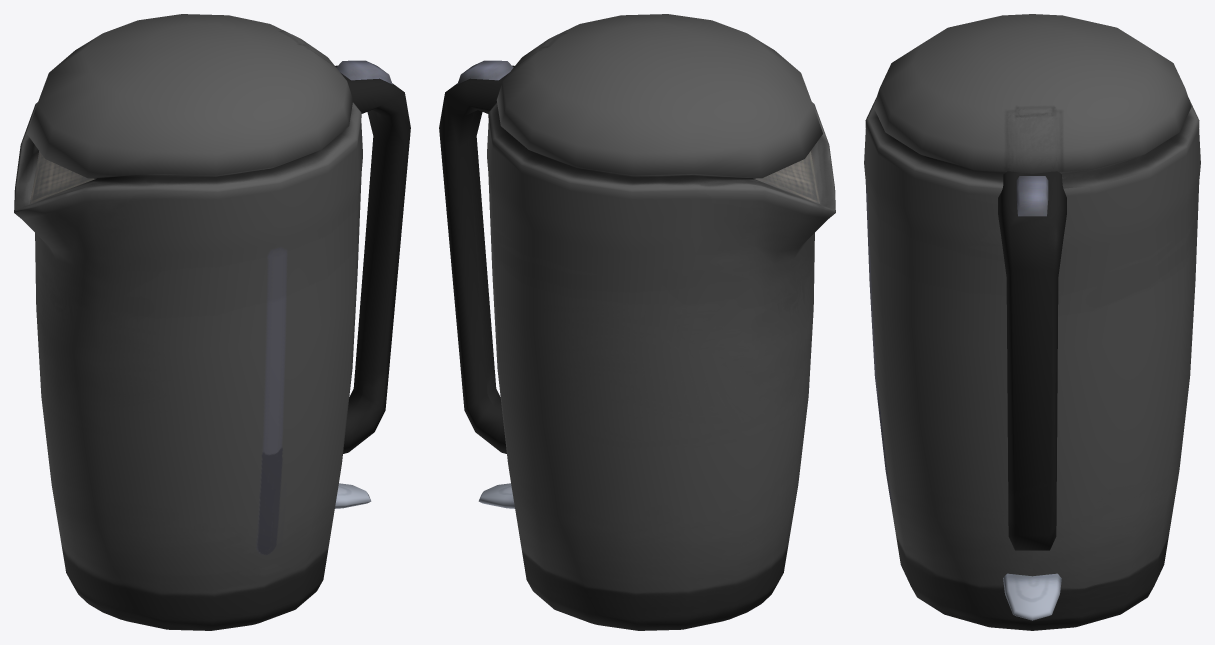
The model's file is PRP_Ketlle.fbx.
3 views of the same model, side by side, from view 1: azimuth 30°, elevation 25°; view 2: azimuth 150°, elevation 25°; view 3: azimuth 270°, elevation 25° (orthographic).
Parts seen in each view (by area): view 1: Cylinder; view 2: Cylinder; view 3: Cylinder.
Part boxes in pixels (x1,y1,x2,y2): Cylinder: (14,14,410,630); Cylinder: (439,14,835,630); Cylinder: (864,14,1200,630).
Bounding box in the file's own units: 330 × 440 × 248.
1 material, 1 textured.
